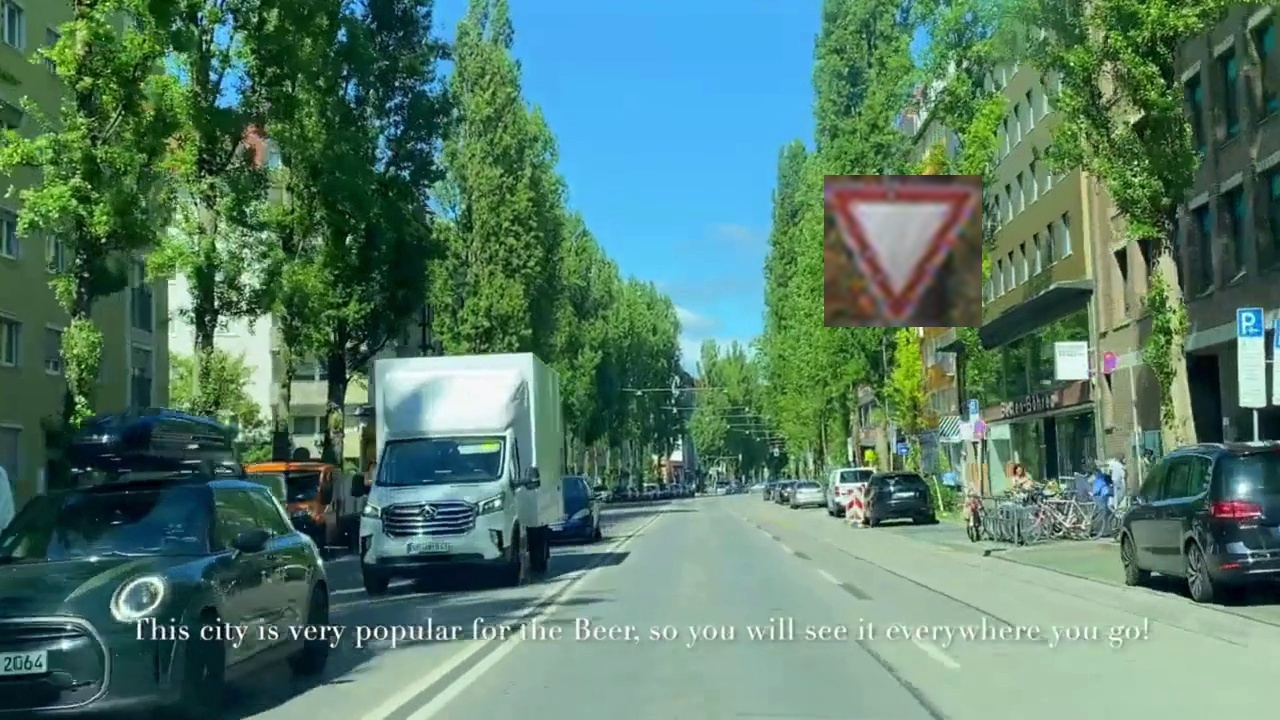Yield: (824, 175, 982, 327)
